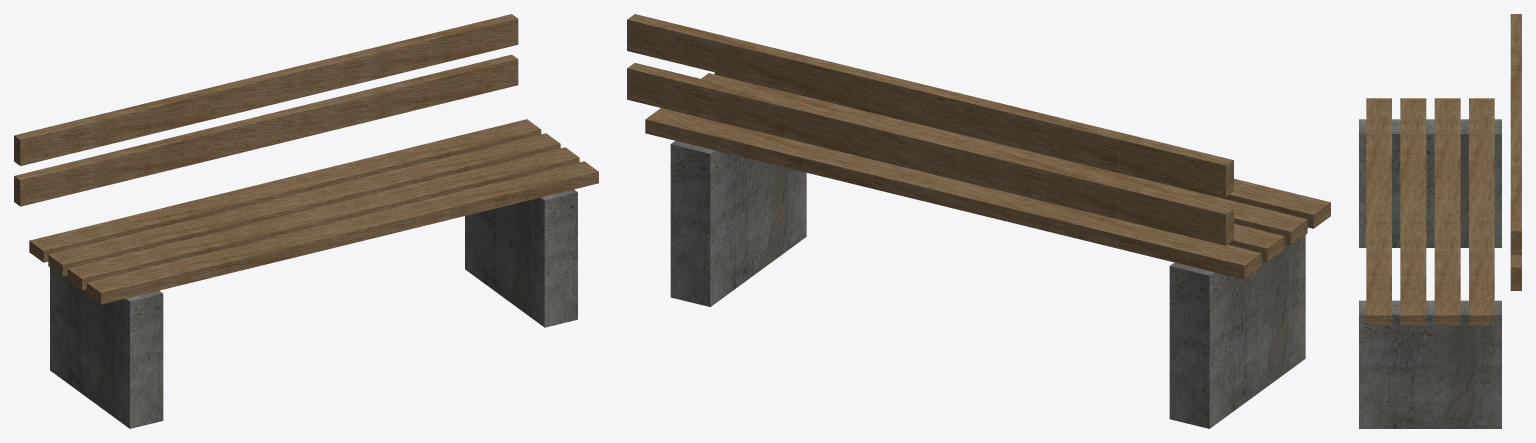
The model's file is S1U_Bench.fbx.
3 views of the same model, side by side, from view 1: azimuth 30°, elevation 25°; view 2: azimuth 150°, elevation 25°; view 3: azimuth 270°, elevation 25° (orthographic). The views are drawn at different scales.
Parts seen in each view (by area): view 1: S1U_Bench; view 2: S1U_Bench; view 3: S1U_Bench.
Part boxes in pixels (x1,y1,x2,y2): S1U_Bench: (14,14,598,428); S1U_Bench: (627,14,1330,428); S1U_Bench: (1359,14,1521,428).
Size of the model in its own units: 1.8 by 0.805 by 0.57.
